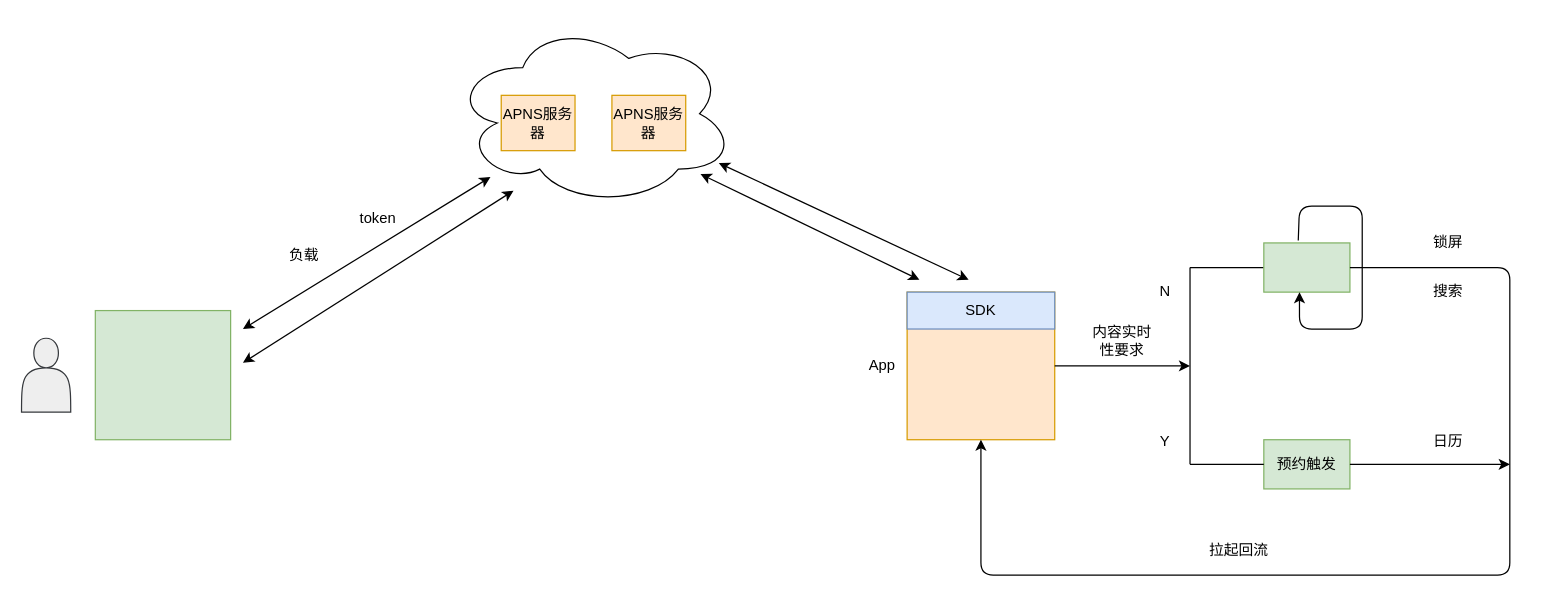
The diagram is 1541 pixels wide and 606 high, and some of its shapes have lost their labels. The shapes that lost their labels are listed below. From the top down, each one's centre as x and y in pixels, then its label:
At (1306,267): "建议捐赠训练".
At (162,374): "推送后台".
